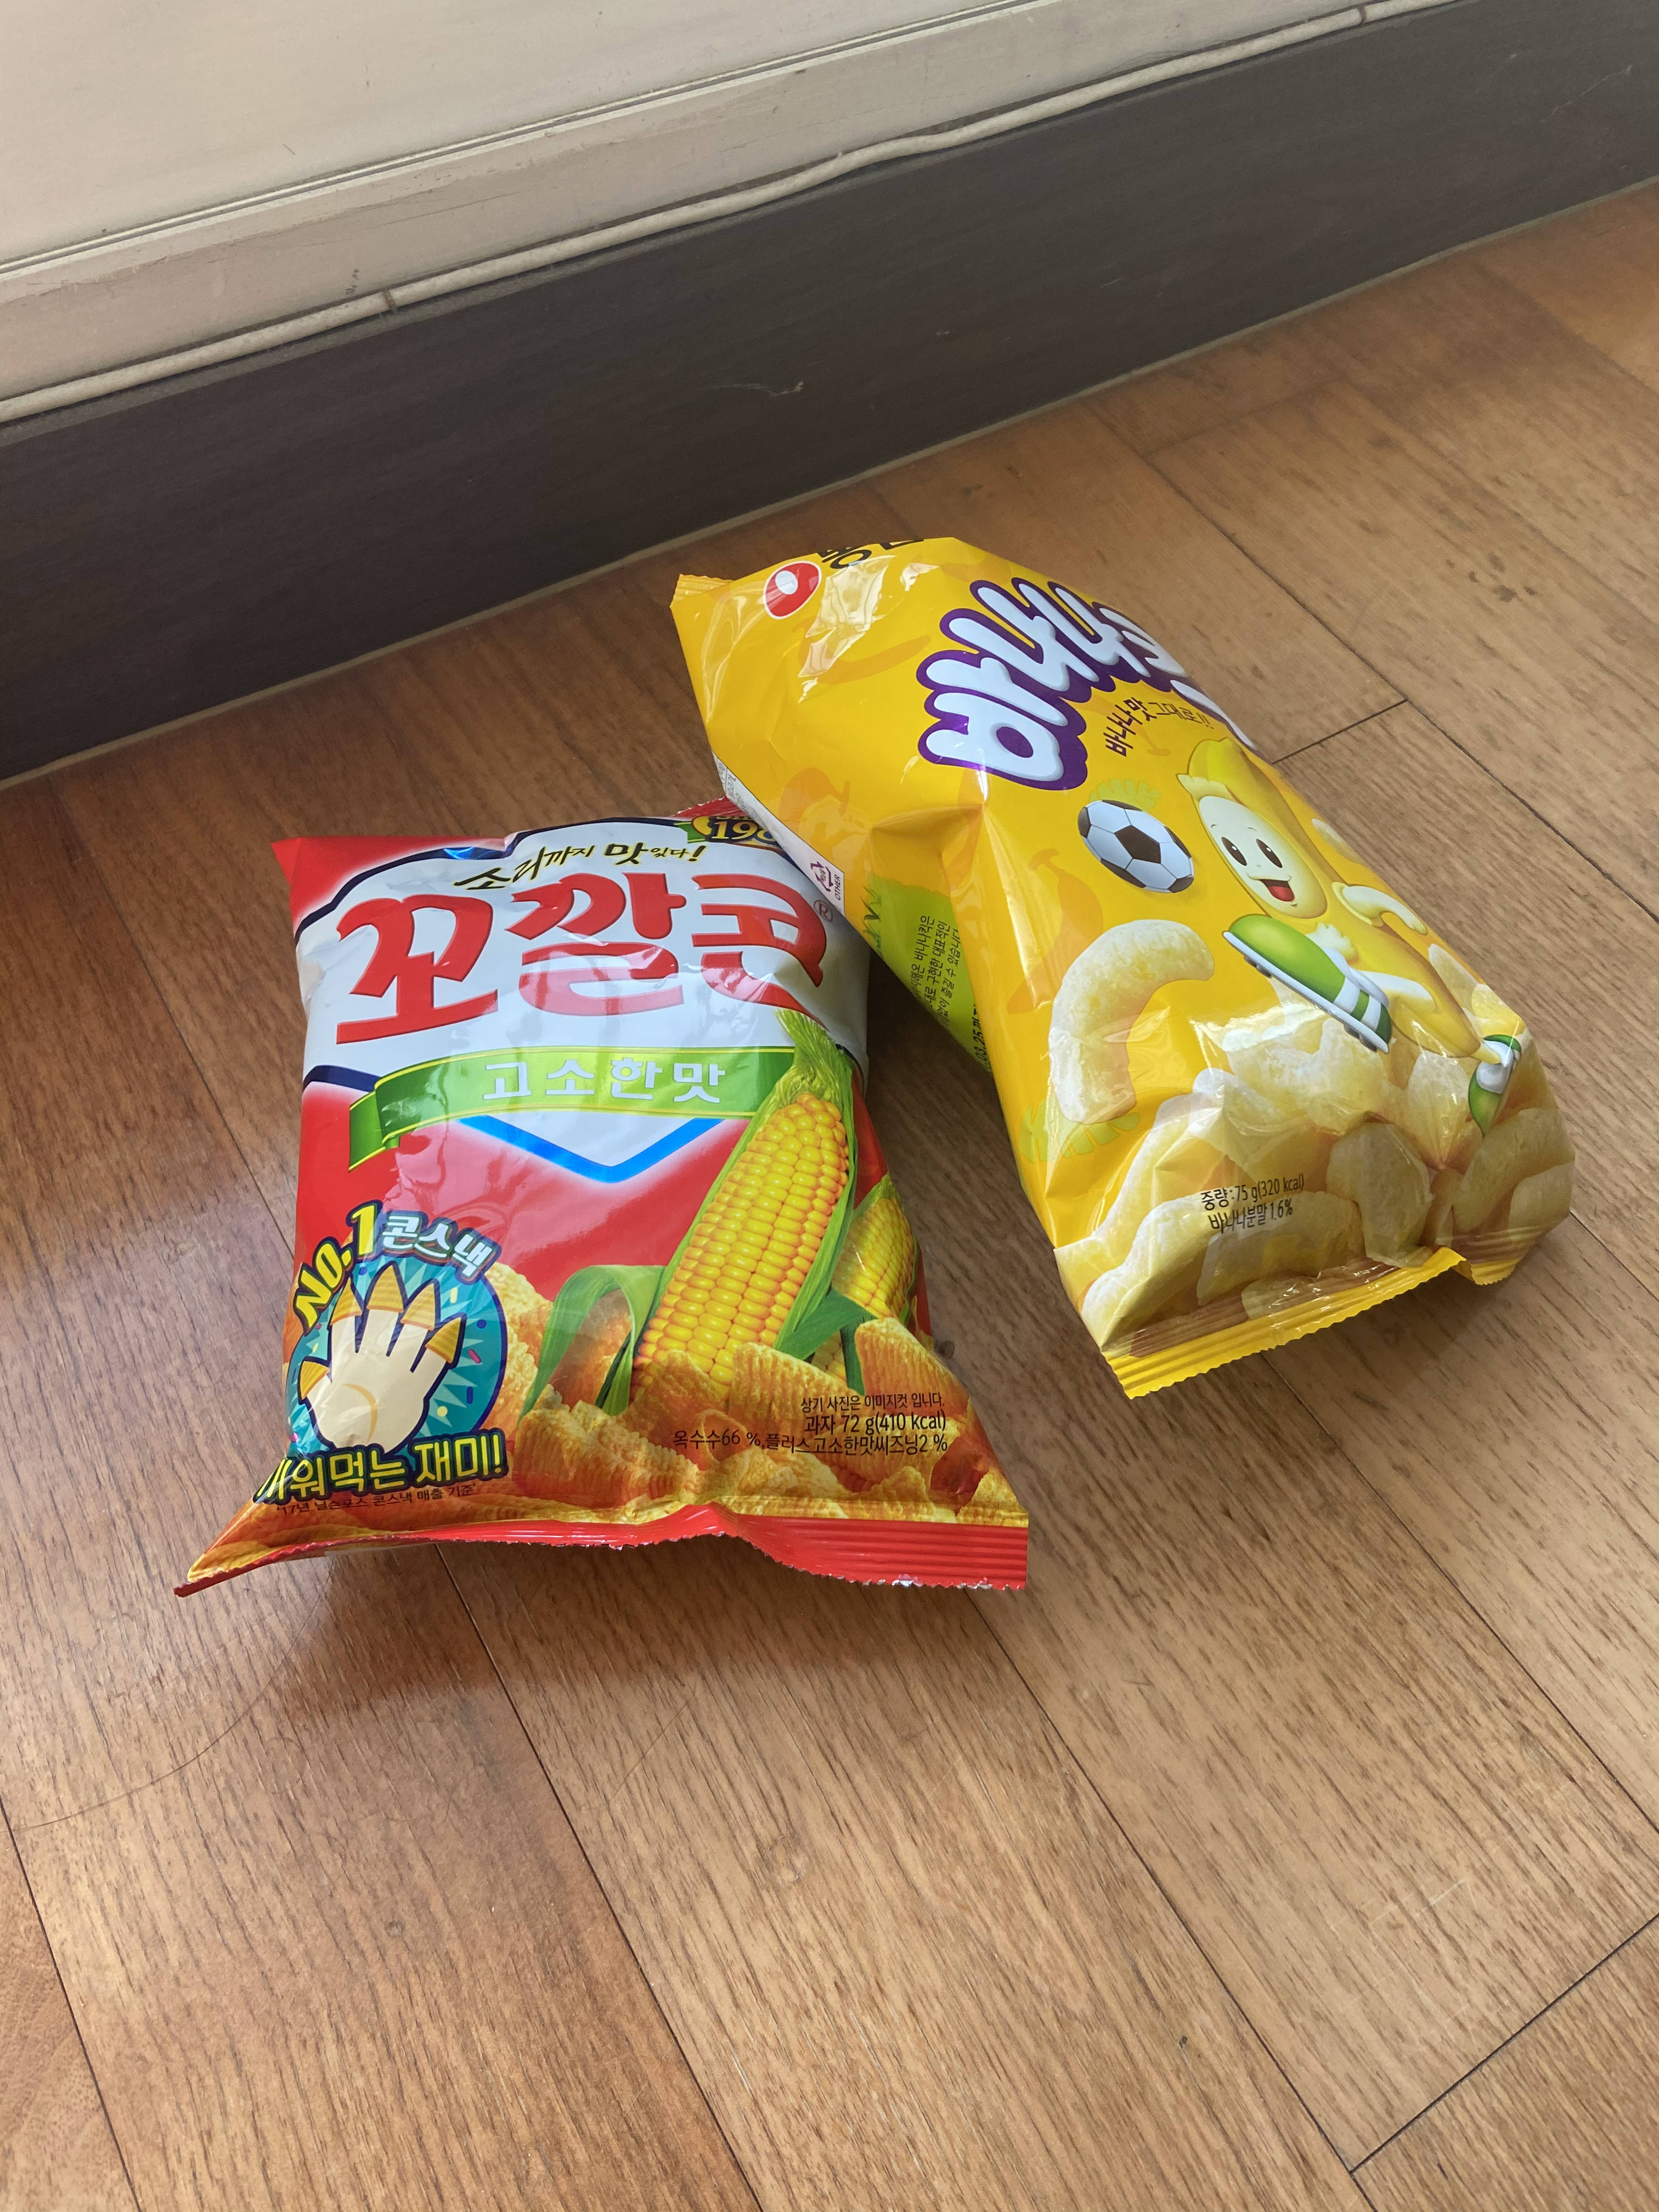banana: (641, 502, 1589, 1409)
ggoggalcon: (138, 758, 1053, 1611)
